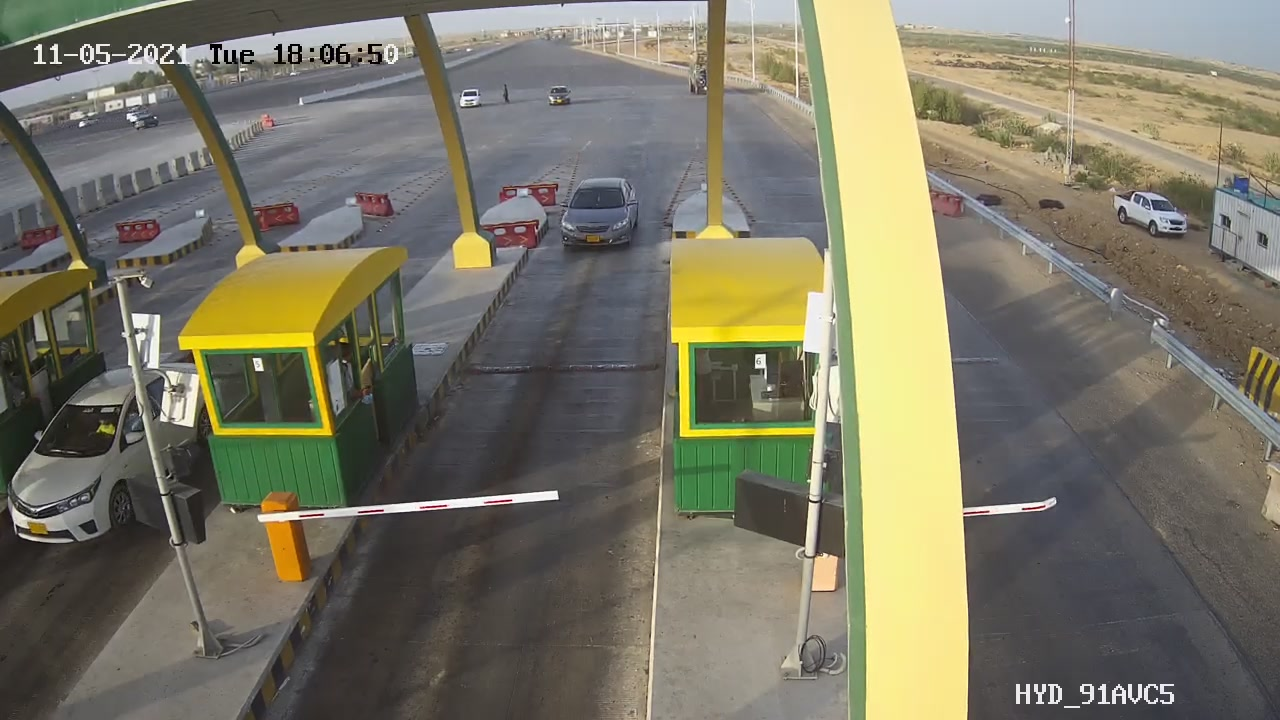F1: (519, 161, 675, 265)
